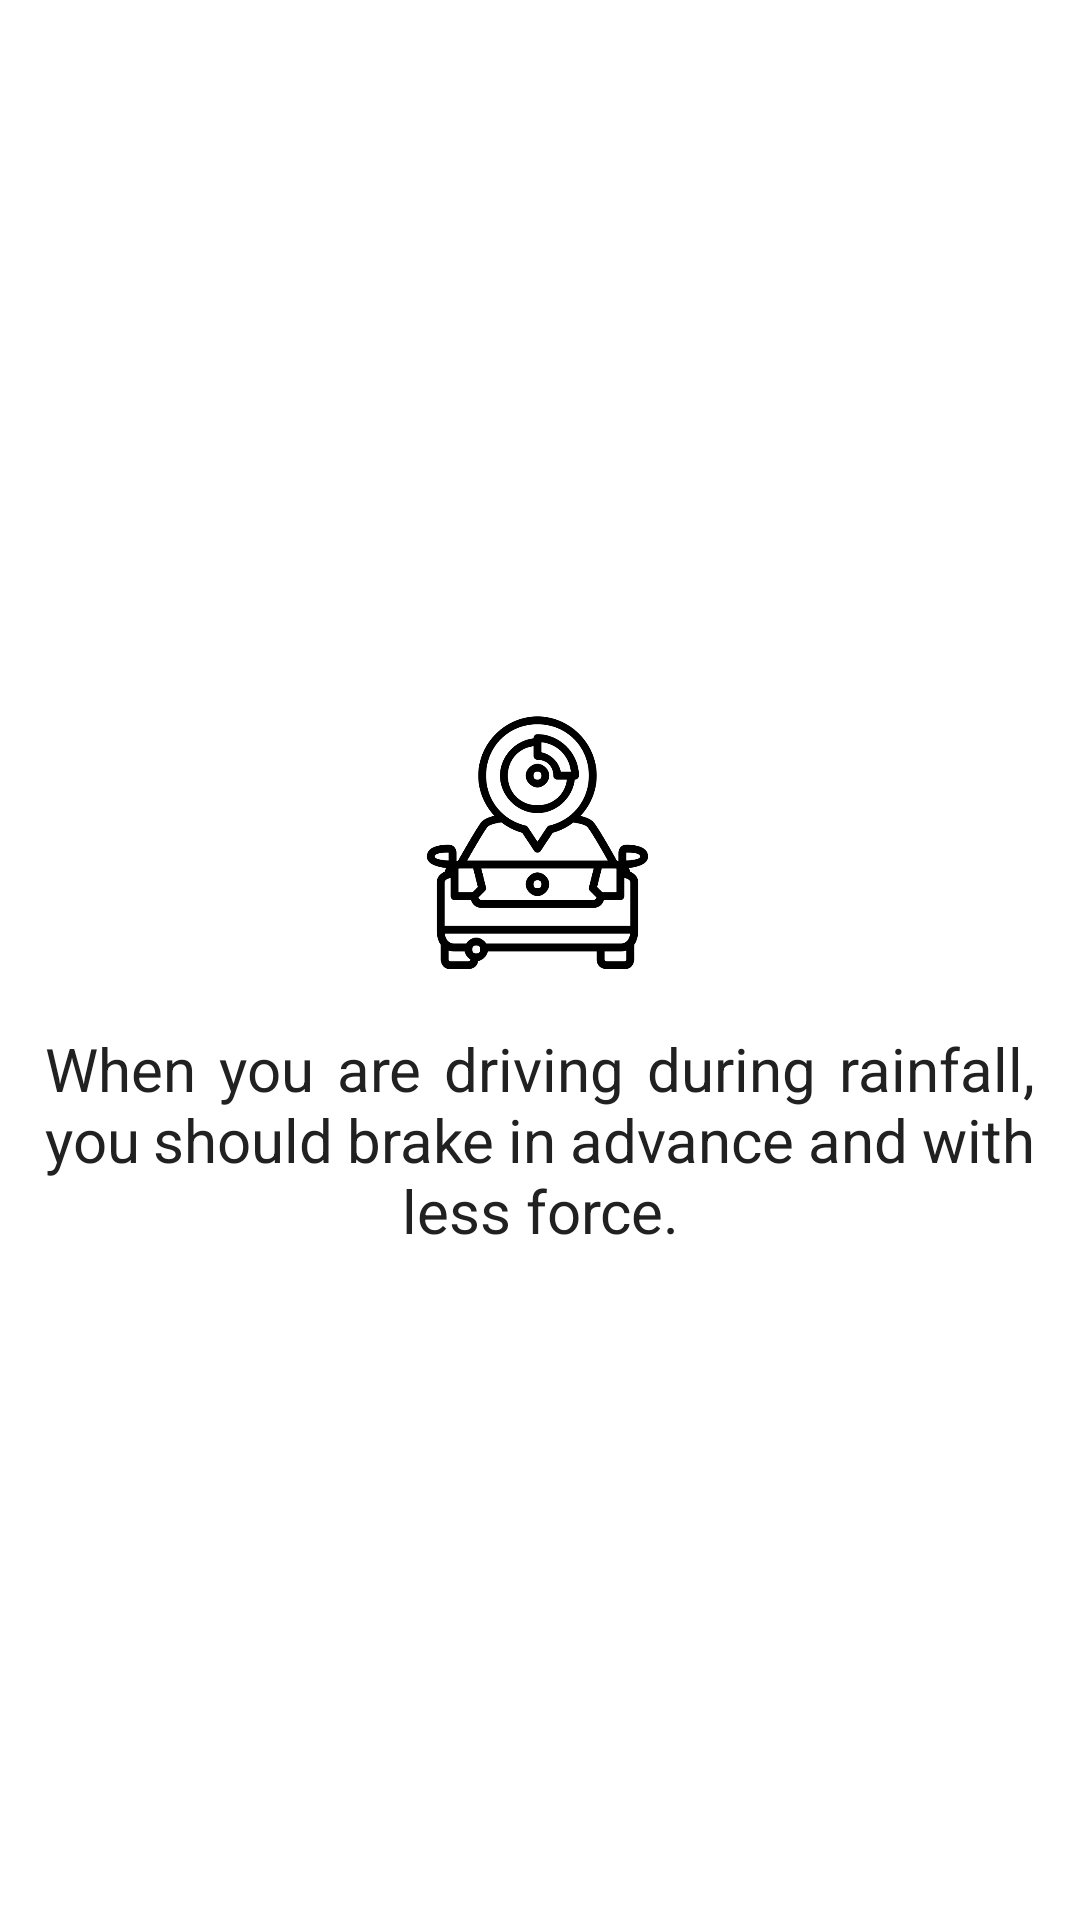

Icon click points for this 1080px x 1920px phone screenshot, format (x=x, y=y):
tip pic: (x=537, y=842)
